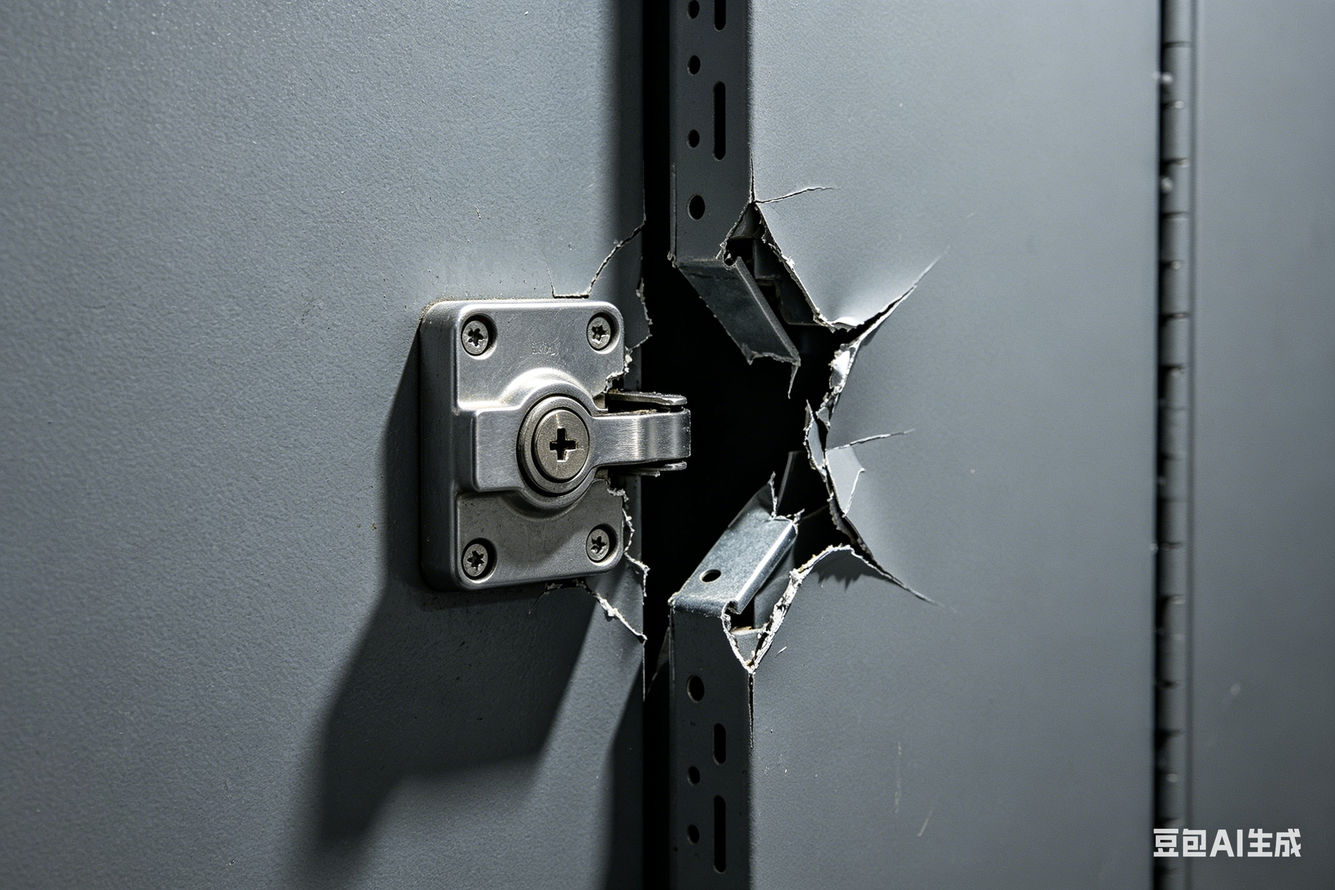BadLock: (592, 234, 861, 648)
